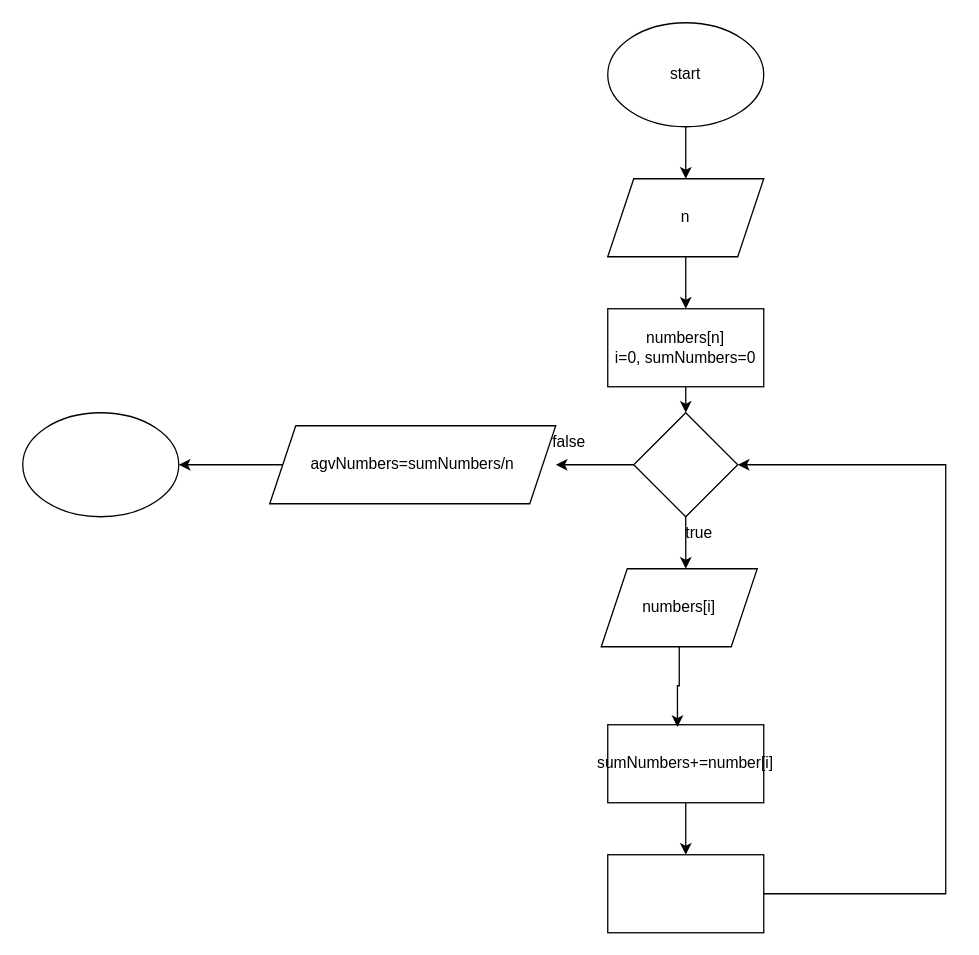
Image size: 979x955. Some labels were removed from this diagram. Here are the shapes that lost their labels. From the top down, the centre of each, then its label:
(x=100, y=464): end
(x=685, y=464): i<n?
(x=685, y=893): i++
